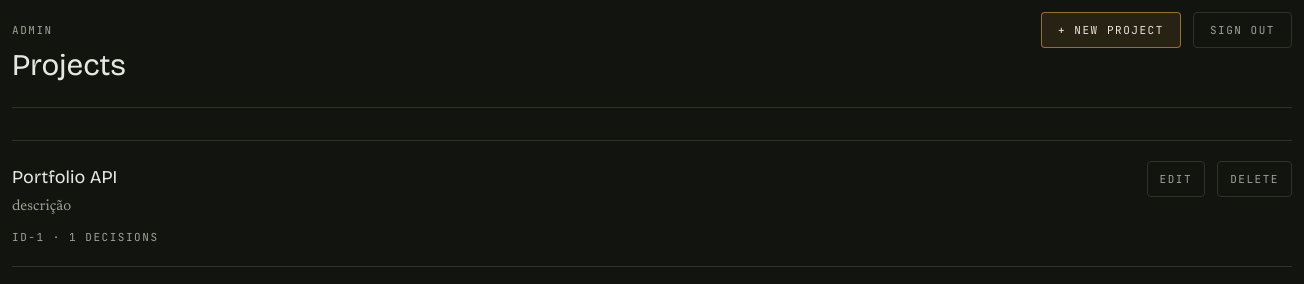
Test: sign out limpa a sessão e volta ao login
Expected: the heading "Portfolio API" is shown, x1=12 y1=166 x2=117 y2=188
Click the button "Sign out" at coordinates (1242, 30), box x1=1193 y1=12 x2=1292 y2=48
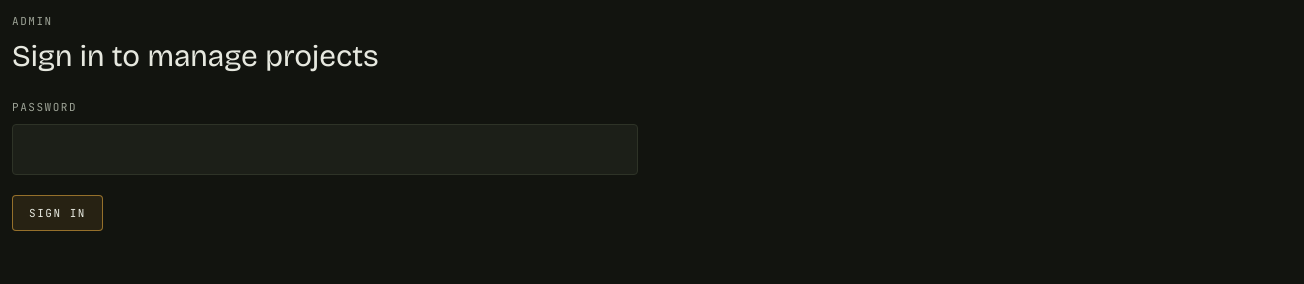
Expected: the password field labelled "Password" is shown, x1=12 y1=124 x2=638 y2=175
